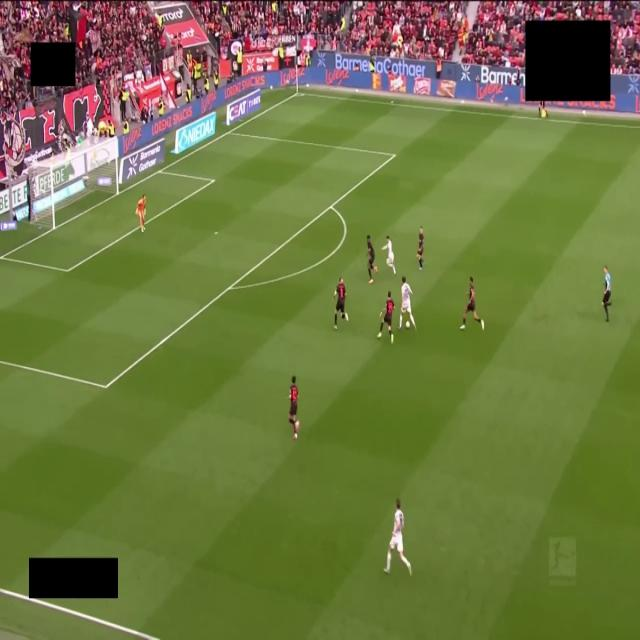ball: (406, 321, 410, 329)
player: (385, 499, 411, 575), (460, 278, 484, 330), (399, 277, 416, 329), (377, 292, 394, 343), (334, 278, 348, 329), (289, 376, 299, 439), (367, 236, 377, 284), (383, 236, 395, 275), (136, 194, 145, 232), (417, 227, 423, 270)
referee: (602, 266, 612, 322)
